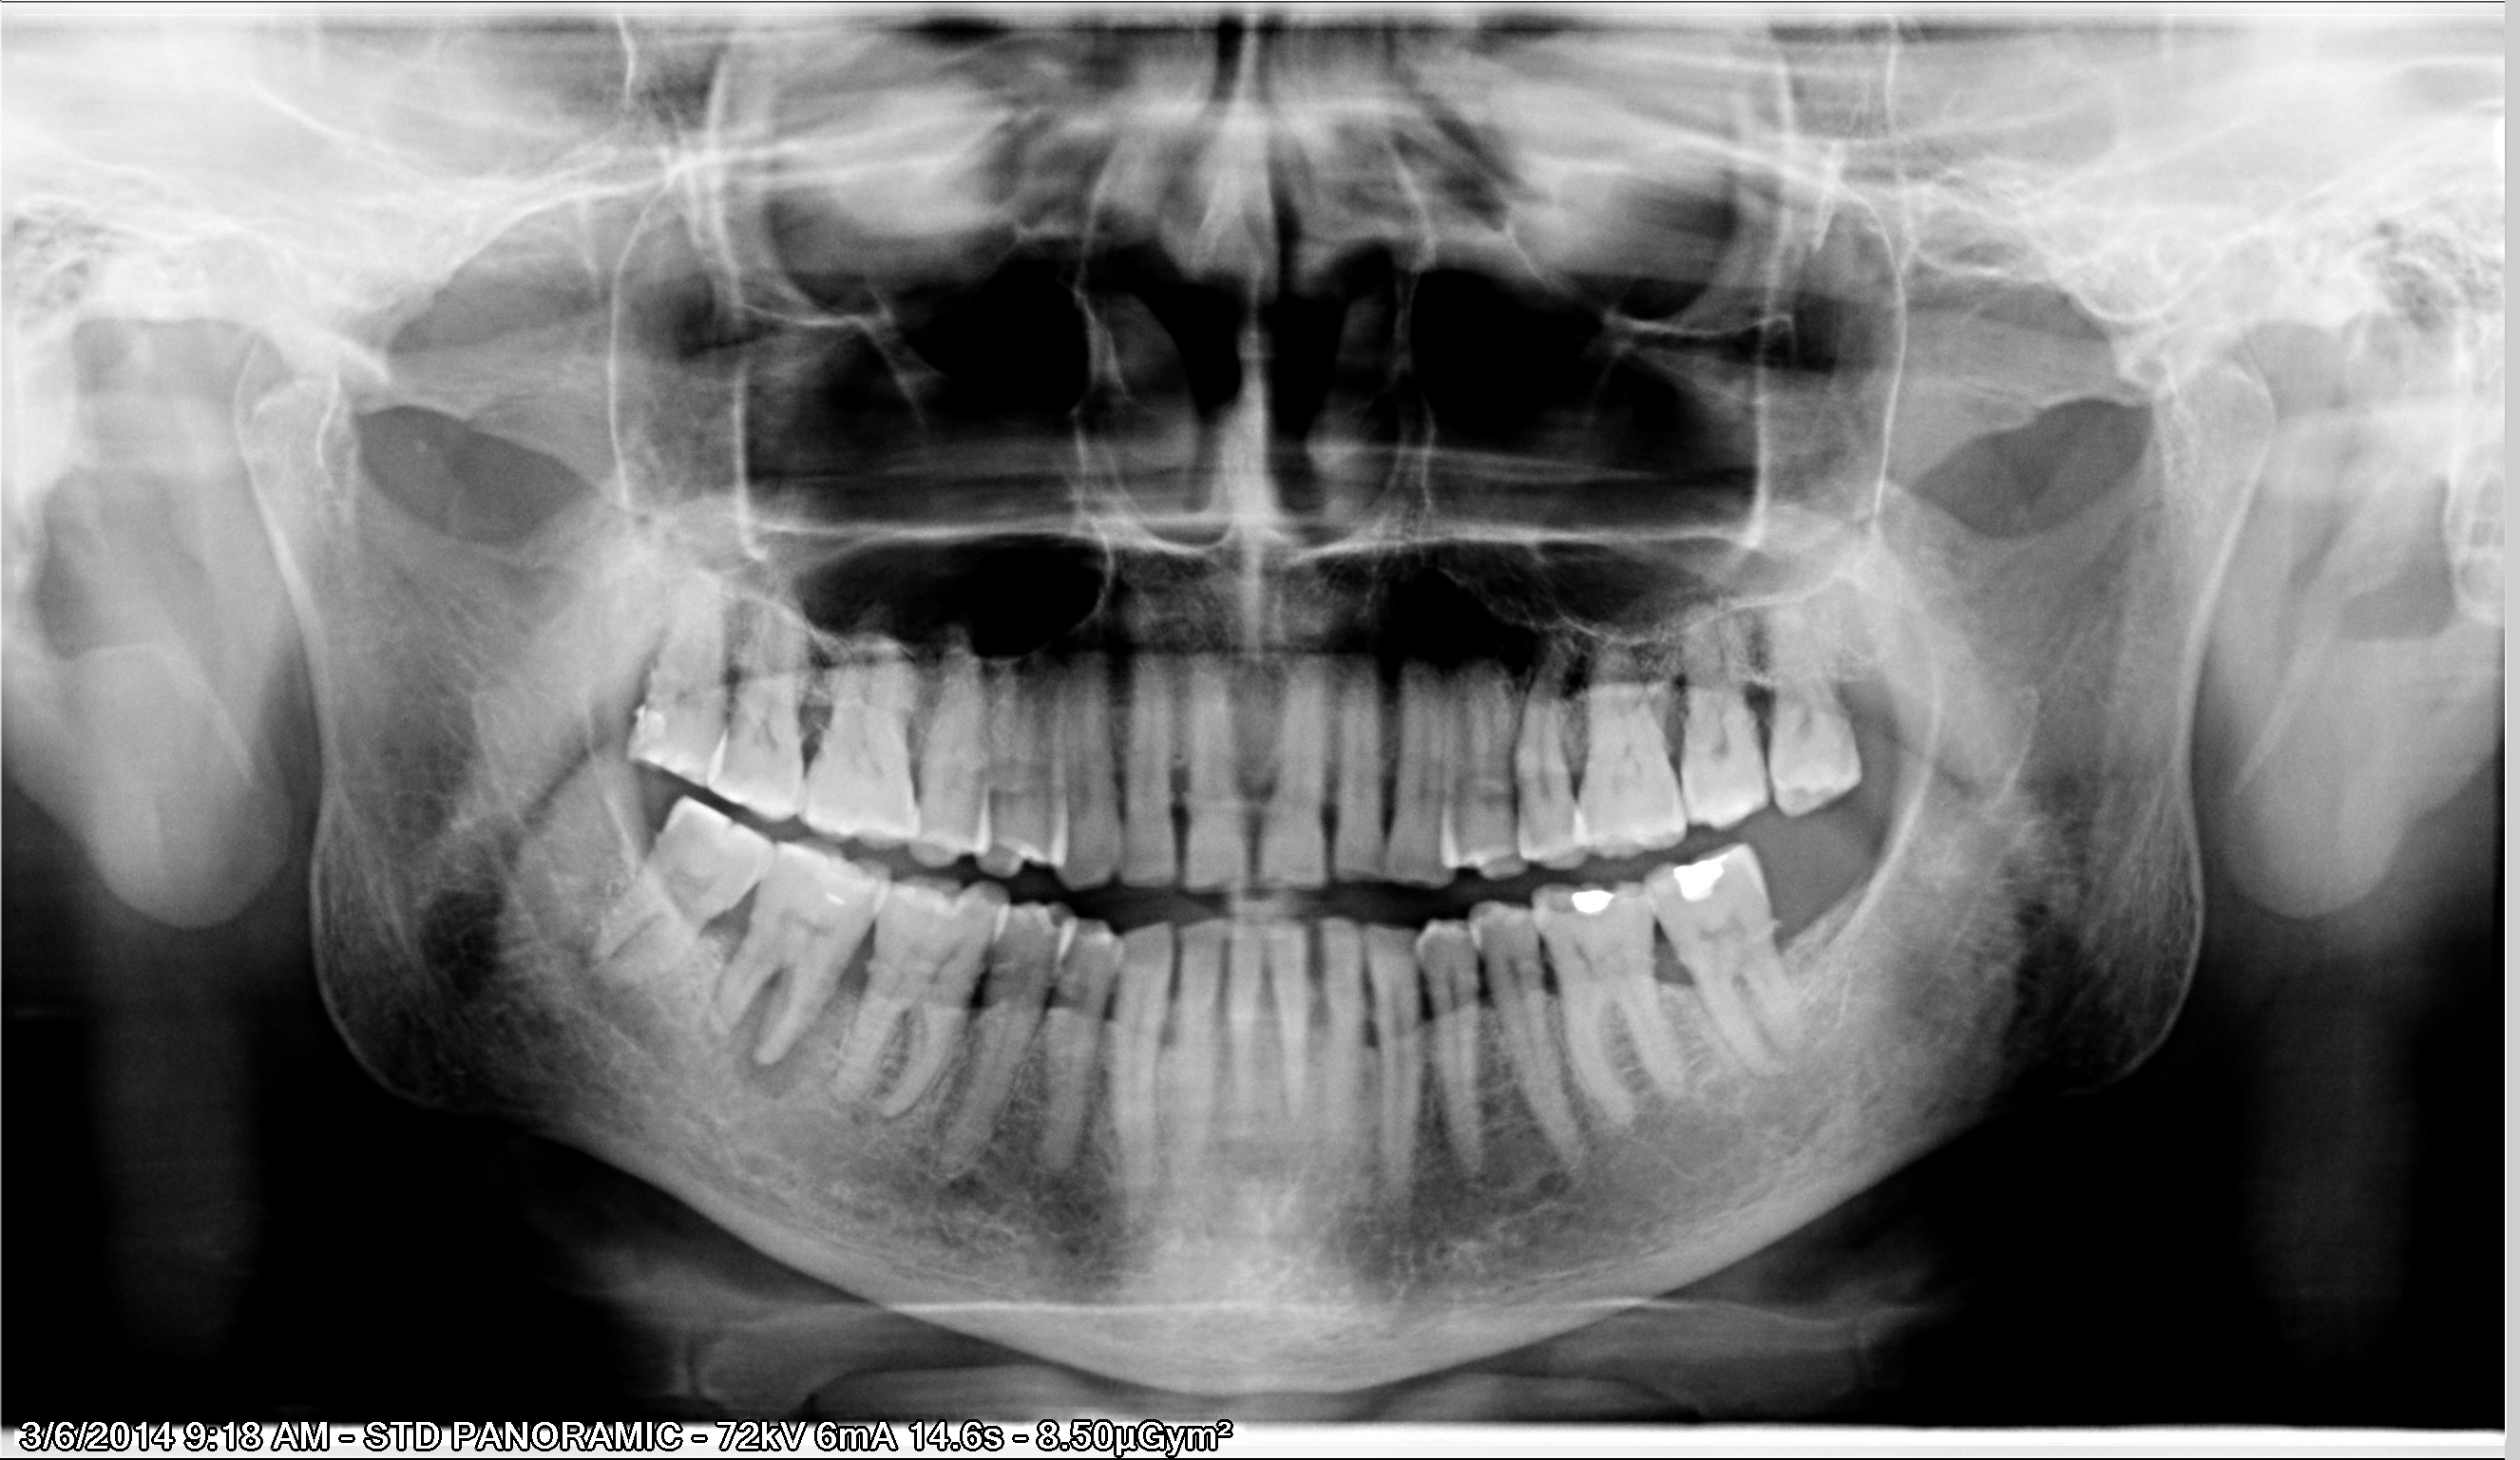API: (720, 1006, 841, 1128), (678, 985, 765, 1069)
BON: (1630, 662, 1710, 768), (1719, 641, 1785, 760), (1288, 972, 1347, 1065), (1340, 975, 1396, 1074), (1236, 972, 1293, 1065), (1639, 958, 1715, 1019), (1199, 980, 1248, 1067), (1152, 973, 1192, 1069)
FUR: (720, 946, 827, 1013), (1705, 958, 1769, 1027)
OBT: (615, 685, 728, 789), (1773, 742, 1858, 815), (1547, 869, 1623, 946), (1665, 839, 1738, 919), (806, 866, 876, 939)
